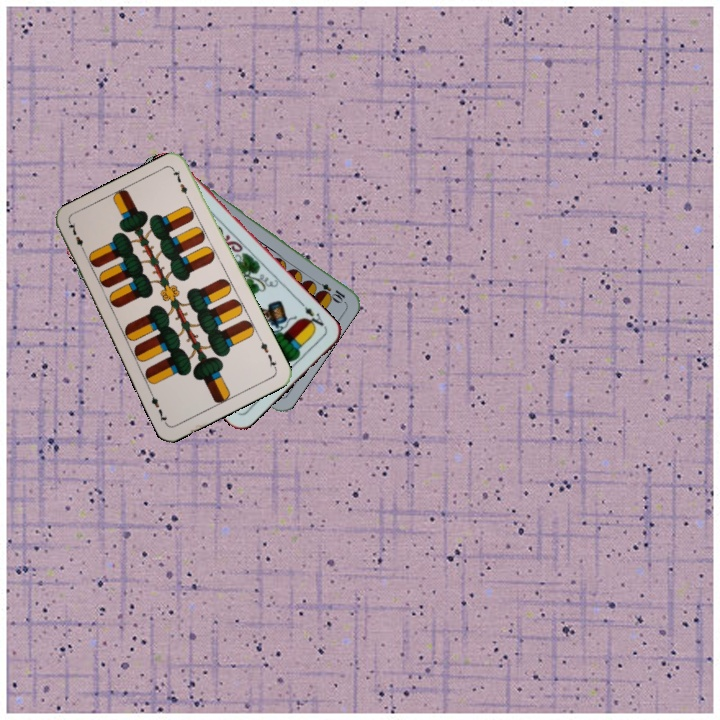E10: (310, 276, 348, 305)
E7: (64, 219, 89, 257), (255, 334, 279, 372)
EA: (297, 299, 329, 332)
